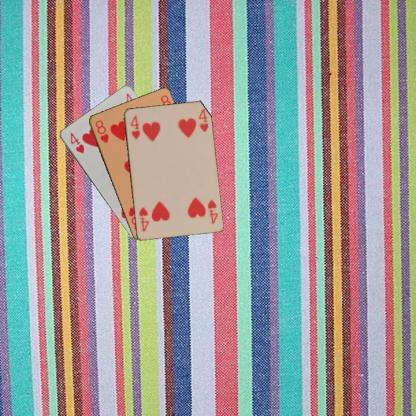4h: (67, 129, 86, 155), (205, 197, 219, 225), (128, 113, 141, 140)
8h: (92, 118, 110, 144)
